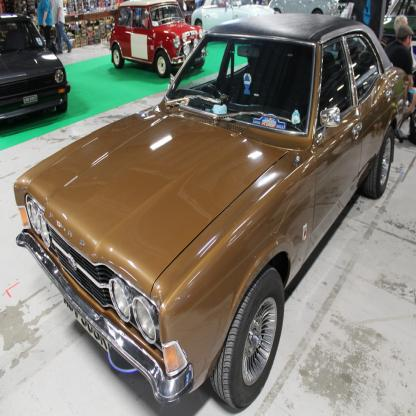Car: (14, 13, 411, 407), (111, 1, 210, 79), (1, 14, 72, 122), (381, 1, 416, 88), (193, 1, 277, 32), (269, 1, 341, 17)
